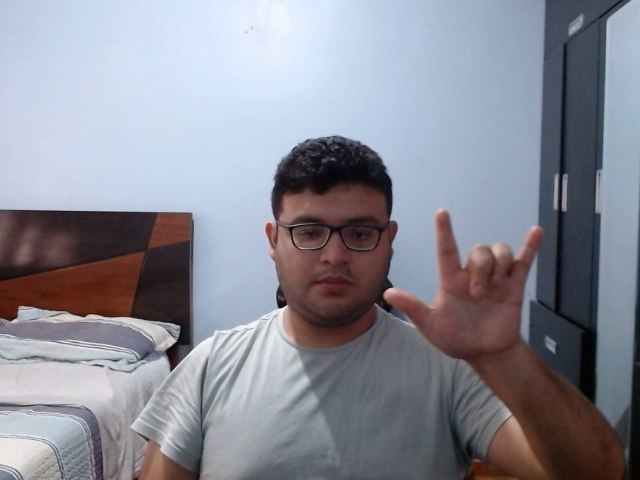I love you: (382, 205, 546, 370)
